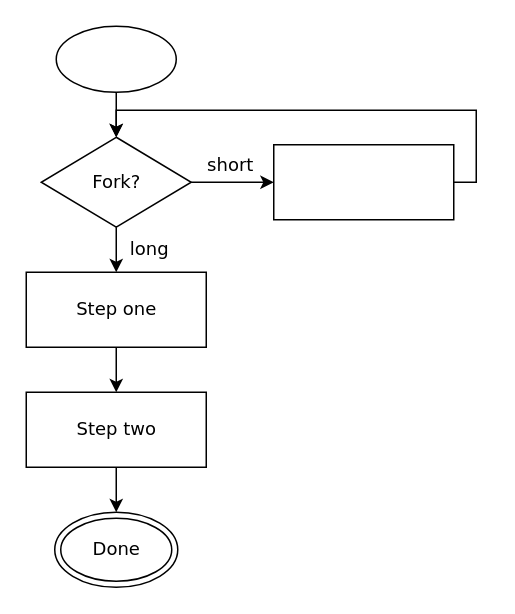
Some shapes in this 515 by 614 pixel diagram are drawn without their labels. Here are the shapes that lost their labels. From the top down, the box of each, then its label:
(55, 25, 176, 92): Enter
(272, 143, 454, 220): Retry
